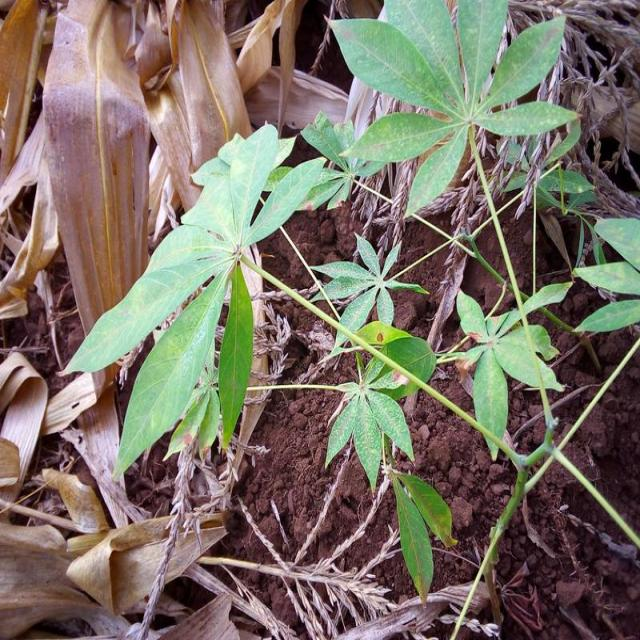cassava leaf: (56, 118, 329, 480), (326, 0, 580, 219)
